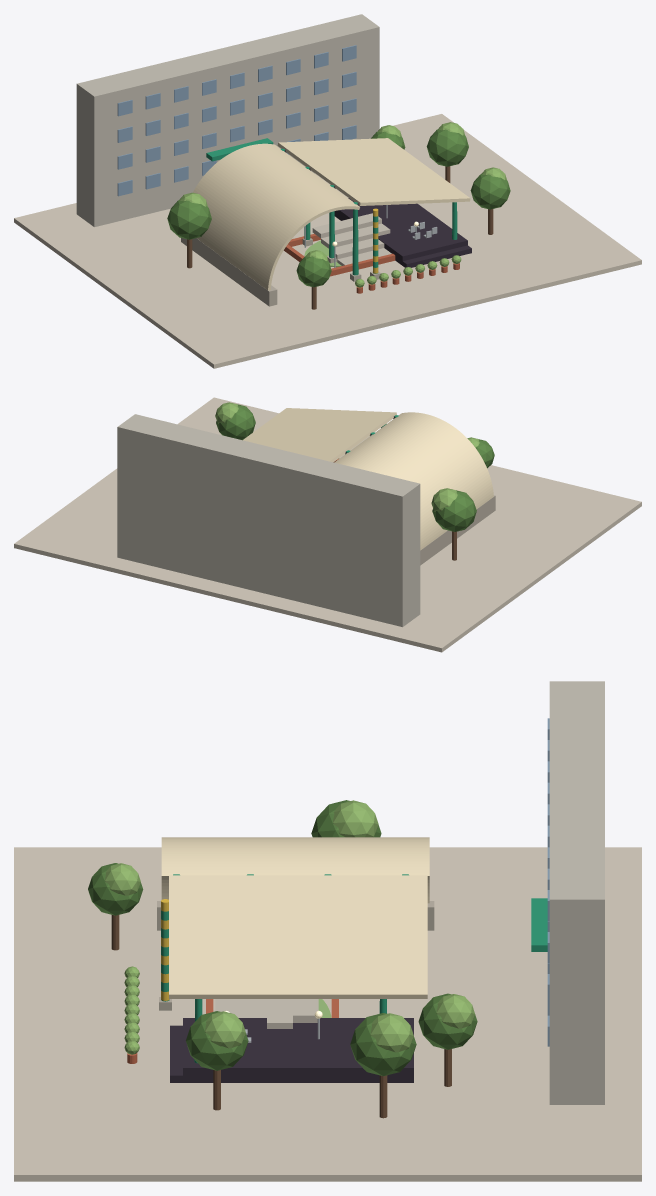
Rendered from oat_dps_rkpuram.glb.
The picture shows the model from 3 angles, top to bottom: view 1: azimuth 30°, elevation 25°; view 2: azimuth 150°, elevation 25°; view 3: azimuth 270°, elevation 25°; orthographic projection. The views are drawn at different scales.
Parts seen in each view (by area): view 1: Ground, Building, Canopy, Windows, Tree_CanopyB, Stage, Seating, Plinth, Pillars, Tree_CanopyA, Planter_Kerb, Pot_Foliage (+1 smaller); view 2: Building, Ground, Canopy, Tree_CanopyB, Plinth, Tree_CanopyA; view 3: Ground, Canopy, Building, Stage, Tree_CanopyB, Tree_CanopyA, Seating, Tree_Trunks, Pot_Foliage, Windows, Building_Ledge.
Boxes of the visible parts, box(x1,y1,x2,y2) form: Ground: box(14, 114, 641, 368); Building: box(76, 14, 379, 227); Canopy: box(193, 138, 470, 290); Windows: box(117, 45, 356, 196); Tree_CanopyB: box(167, 129, 510, 287); Stage: box(334, 198, 471, 267); Seating: box(312, 213, 391, 265); Plinth: box(181, 238, 277, 306); Pillars: box(280, 148, 457, 275); Tree_CanopyA: box(179, 122, 506, 261); Planter_Kerb: box(284, 233, 395, 276); Pot_Foliage: box(355, 255, 461, 287); Building: box(117, 414, 420, 627); Ground: box(14, 397, 641, 652); Canopy: box(243, 408, 493, 550); Tree_CanopyB: box(216, 404, 494, 531); Plinth: box(420, 495, 495, 565); Tree_CanopyA: box(215, 402, 479, 511); Ground: box(14, 847, 641, 1181); Canopy: box(161, 837, 429, 998); Building: box(549, 681, 604, 1104); Stage: box(170, 1018, 413, 1082); Tree_CanopyB: box(88, 800, 477, 1076); Tree_CanopyA: box(105, 800, 474, 1052); Seating: box(215, 999, 318, 1028); Tree_Trunks: box(111, 915, 451, 1118); Pot_Foliage: box(124, 966, 139, 1054); Windows: box(547, 718, 549, 1046); Building_Ledge: box(531, 898, 547, 951).
Bounding box in the file's own units: 42 × 12.65 × 34.
